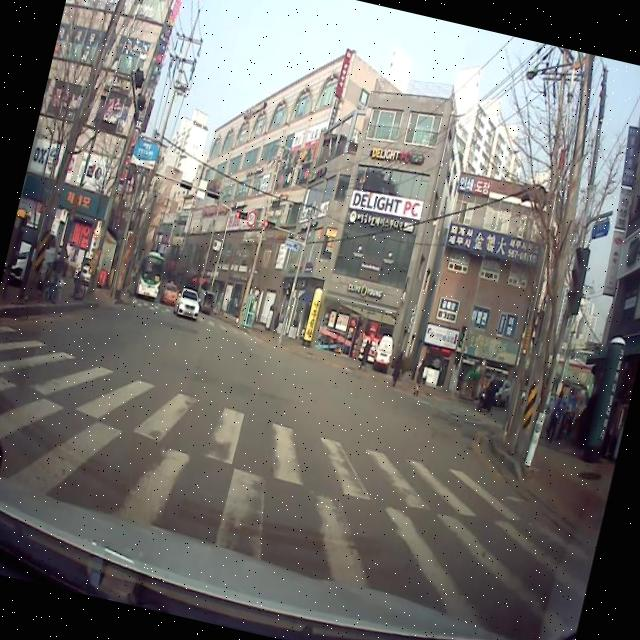crosswalk: (0, 322, 595, 640)
